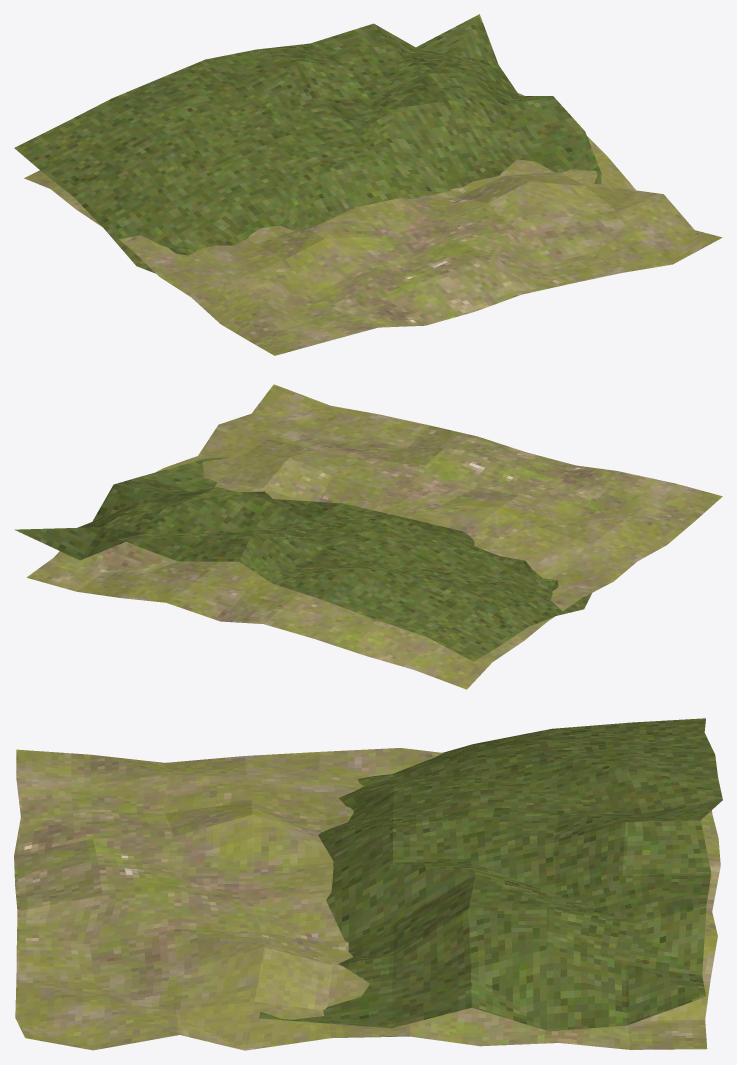
File: grassTerrain1.gltf
The picture shows the model from 3 angles, top to bottom: view 1: azimuth 30°, elevation 25°; view 2: azimuth 150°, elevation 25°; view 3: azimuth 270°, elevation 25°; orthographic projection. The views are drawn at different scales.
Visible parts, largest first — view 1: Grid.001, Grid; view 2: Grid, Grid.001; view 3: Grid, Grid.001.
Part boxes in pixels (left/top/right/bottom): Grid.001: left=14, top=14, right=601, bottom=273; Grid: left=24, top=93, right=722, bottom=355; Grid: left=27, top=384, right=722, bottom=689; Grid.001: left=14, top=457, right=591, bottom=661; Grid: left=14, top=748, right=720, bottom=1050; Grid.001: left=259, top=718, right=722, bottom=1031.
Size of the model in its own units: 14.31 by 2.38 by 14.03.
Materials: 2 (2 with a texture image).
